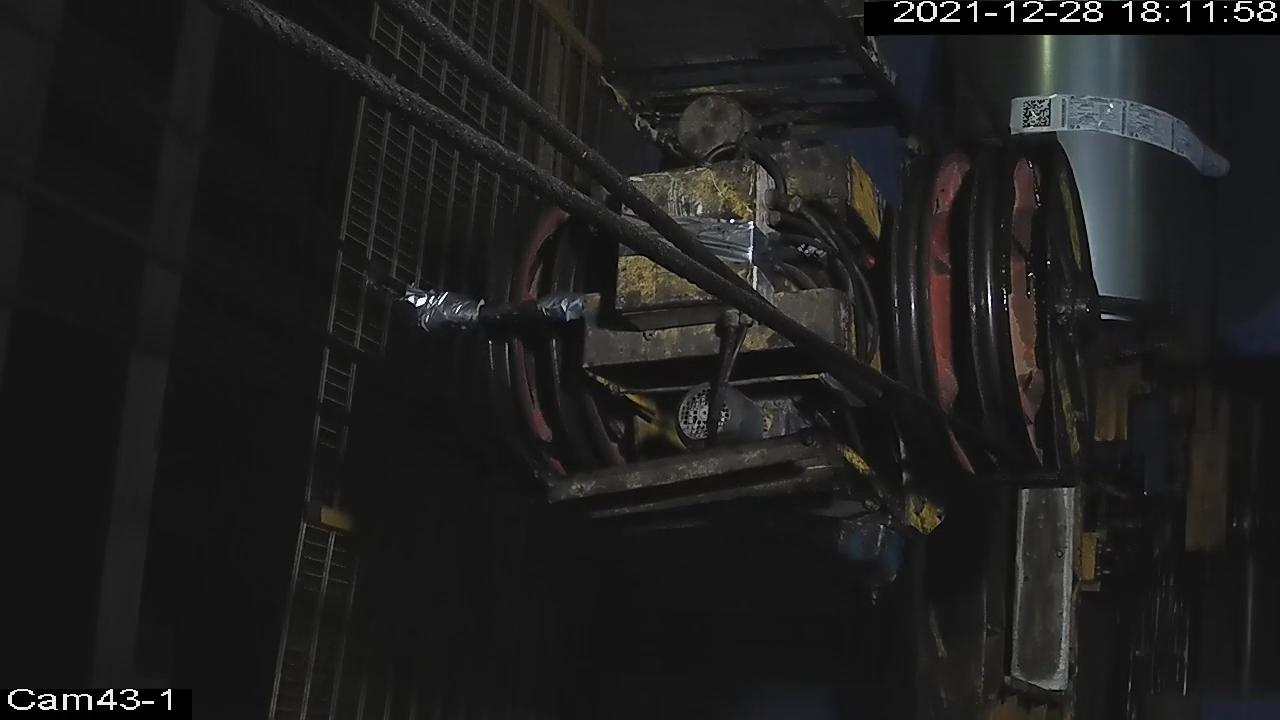data matrix: (1021, 97, 1055, 131)
